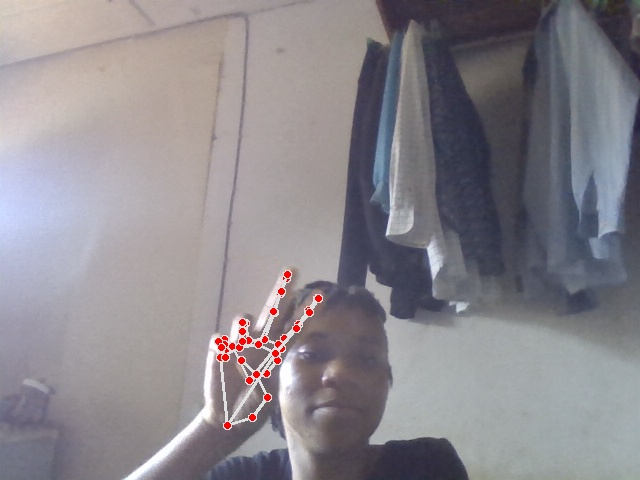peace: (204, 267, 326, 438)
